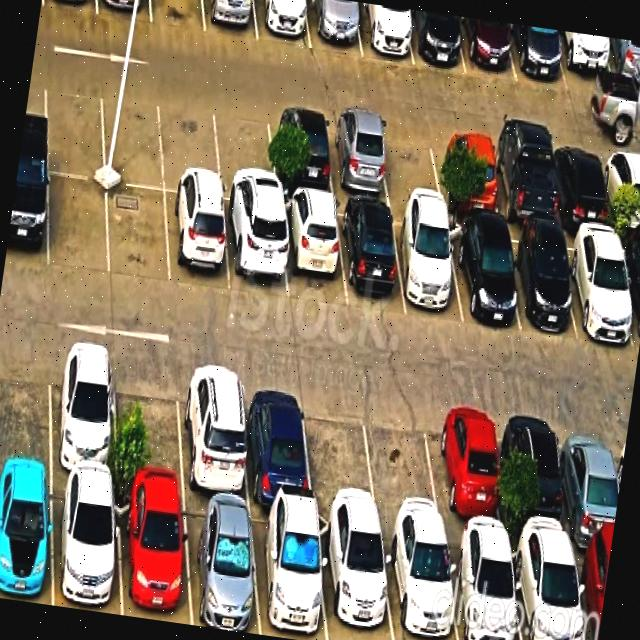empty: (364, 391, 444, 529), (303, 383, 378, 521), (115, 353, 185, 494), (213, 99, 277, 207), (0, 337, 51, 471), (101, 82, 164, 190), (108, 183, 170, 287), (161, 91, 221, 197), (45, 74, 105, 179), (49, 174, 109, 275), (378, 120, 443, 206), (151, 0, 205, 32)
occupied: (183, 496, 260, 635), (431, 398, 505, 539), (116, 487, 191, 625), (251, 506, 327, 640), (180, 363, 249, 503), (53, 476, 122, 615), (242, 373, 312, 509), (318, 514, 393, 640), (51, 342, 117, 483), (505, 407, 572, 545), (381, 526, 458, 640), (561, 229, 636, 345), (446, 531, 522, 640), (559, 414, 620, 549), (447, 219, 520, 331), (501, 226, 576, 334), (392, 210, 463, 323), (337, 202, 406, 312), (510, 539, 585, 640), (280, 195, 346, 307), (0, 470, 52, 605), (165, 192, 230, 292), (223, 202, 288, 301), (489, 135, 558, 226), (434, 128, 500, 217), (268, 107, 334, 196), (326, 113, 391, 201), (550, 141, 612, 228), (5, 164, 48, 268), (554, 30, 618, 98), (509, 23, 567, 90), (405, 9, 465, 73), (459, 16, 516, 81), (572, 546, 611, 640), (355, 2, 413, 64), (602, 147, 640, 230), (307, 0, 361, 54), (253, 0, 311, 48), (618, 235, 640, 350), (602, 37, 640, 101), (203, 0, 257, 41), (97, 0, 151, 22), (43, 0, 97, 14)
